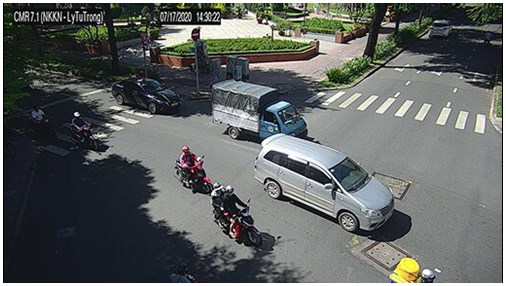xe_hoi: (253, 133, 395, 233), (109, 77, 182, 117), (429, 20, 453, 38)
xe_may: (210, 181, 262, 248), (173, 145, 213, 194), (21, 106, 58, 141), (69, 111, 98, 152), (483, 30, 493, 49)
xe_tai: (210, 79, 308, 141)
